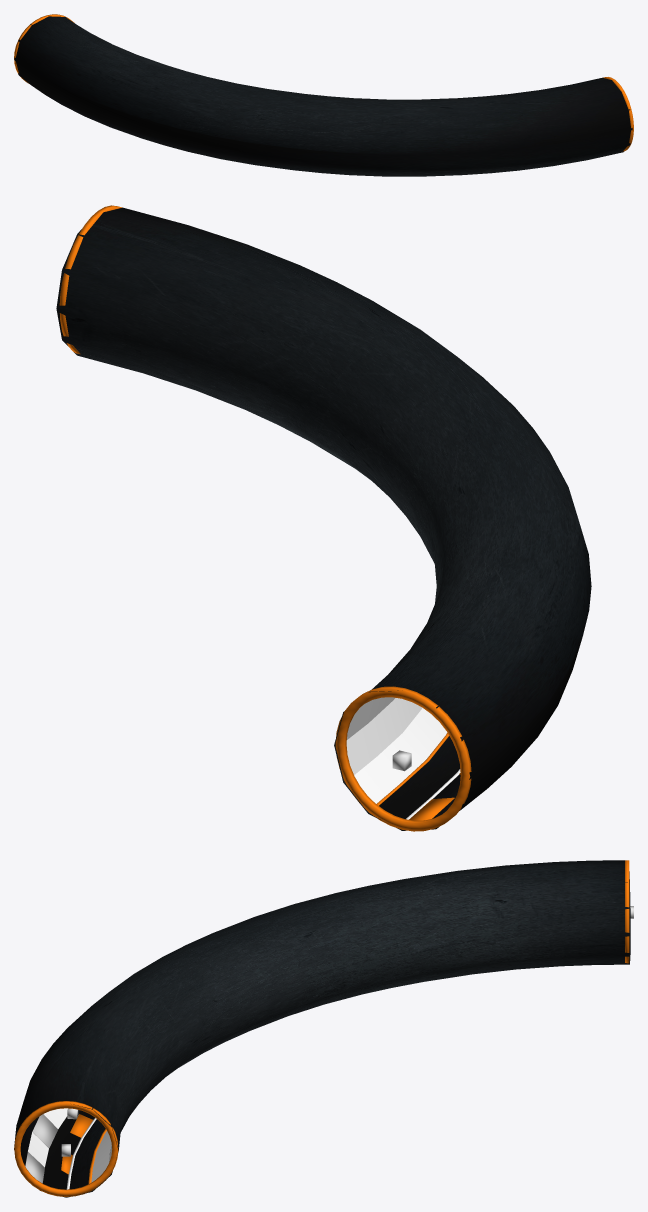
The model's file is Block_90_fulln.fbx.
3 views of the same model, one above another, from view 1: azimuth 30°, elevation 25°; view 2: azimuth 150°, elevation 25°; view 3: azimuth 270°, elevation 25° (orthographic). The views are drawn at different scales.
Visible parts, largest first — view 1: Exterior, Connectors; view 2: Exterior, Connectors, Face 2, Face 3, Face 1; view 3: Exterior, Connectors, Face 12, Face 1, Decal.3, Face 11, Face 2, Decal.4.
Part boxes in pixels (x1,y1,x2,y2): Exterior: (14,16,632,176); Connectors: (14,14,633,151); Exterior: (56,207,591,830); Connectors: (59,205,471,831); Face 2: (354,708,447,803); Face 3: (346,698,422,774); Face 1: (379,736,460,819); Exterior: (14,860,630,1197); Connectors: (14,860,629,1196); Face 12: (42,1110,94,1189); Face 1: (69,1119,105,1189); Decal.3: (25,1114,57,1183); Face 11: (28,1108,67,1167); Face 2: (91,1131,111,1182); Decal.4: (61,1114,92,1174).
Size of the model in its own units: 650 by 110 by 650.
